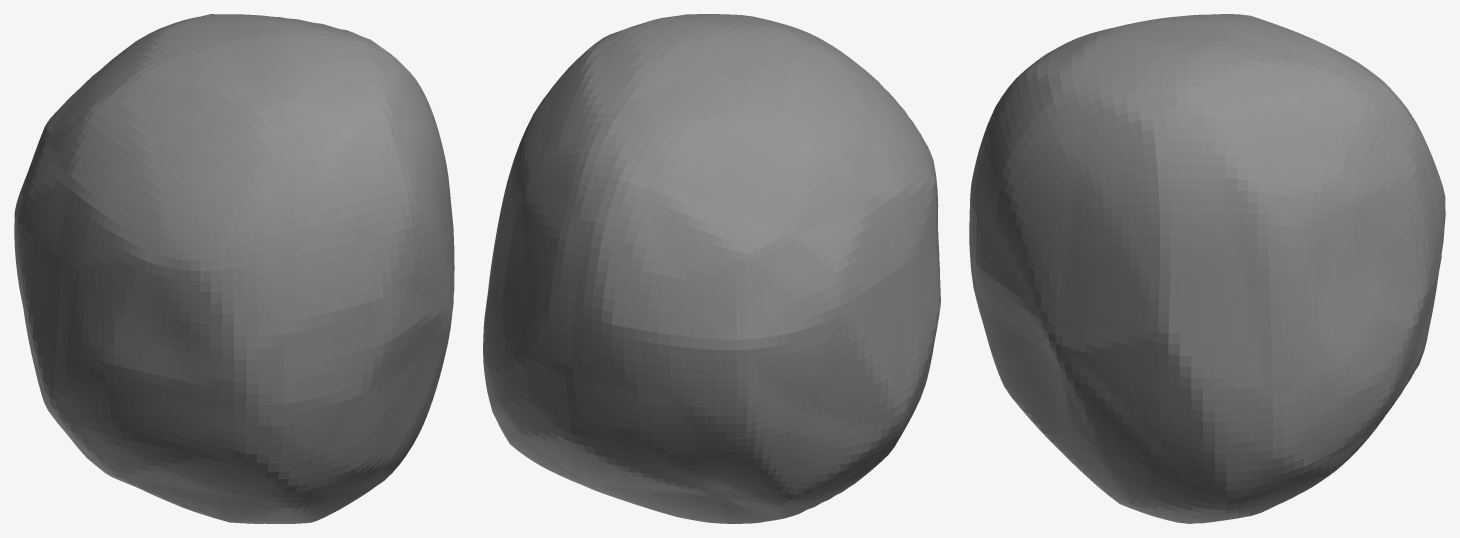
The model's file is stone7.fbx.
3 renders of one model, left to right at view 1: azimuth 30°, elevation 25°; view 2: azimuth 150°, elevation 25°; view 3: azimuth 270°, elevation 25°, orthographic.
Visible parts, largest first — view 1: Cube.002; view 2: Cube.002; view 3: Cube.002.
Boxes of the visible parts, x1,y1,x2,y2 form: Cube.002: [14, 14, 454, 523]; Cube.002: [483, 14, 940, 523]; Cube.002: [969, 14, 1445, 523].
Bounding box in the file's own units: 131 × 148 × 141.
Materials: 1 (1 with a texture image).
